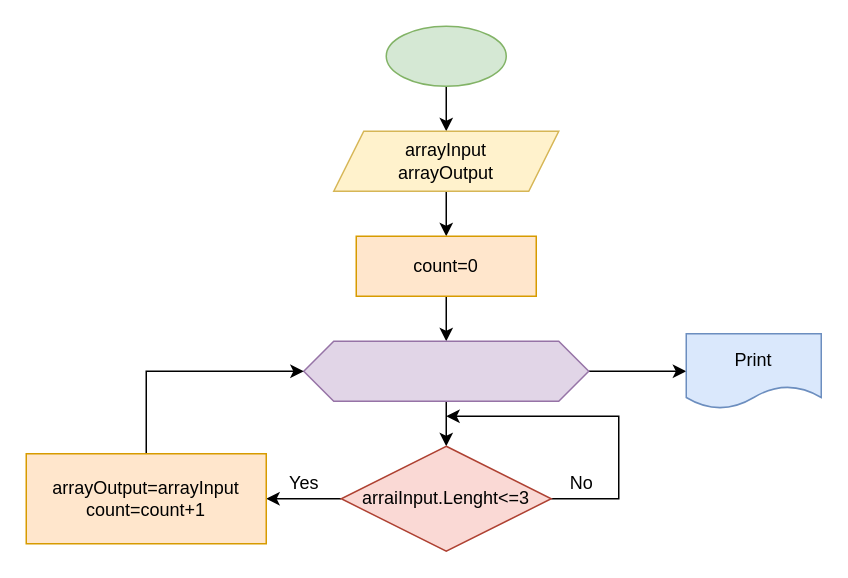
Some shapes in this 848 by 578 pixel diagram are drawn without their labels. The shapes that lost their labels are listed below. From the top down, each one's centre as x and y in pixels, then its label:
[445,55]: Start
[445,370]: i=0, i<arraiInput.Lenght, 1
